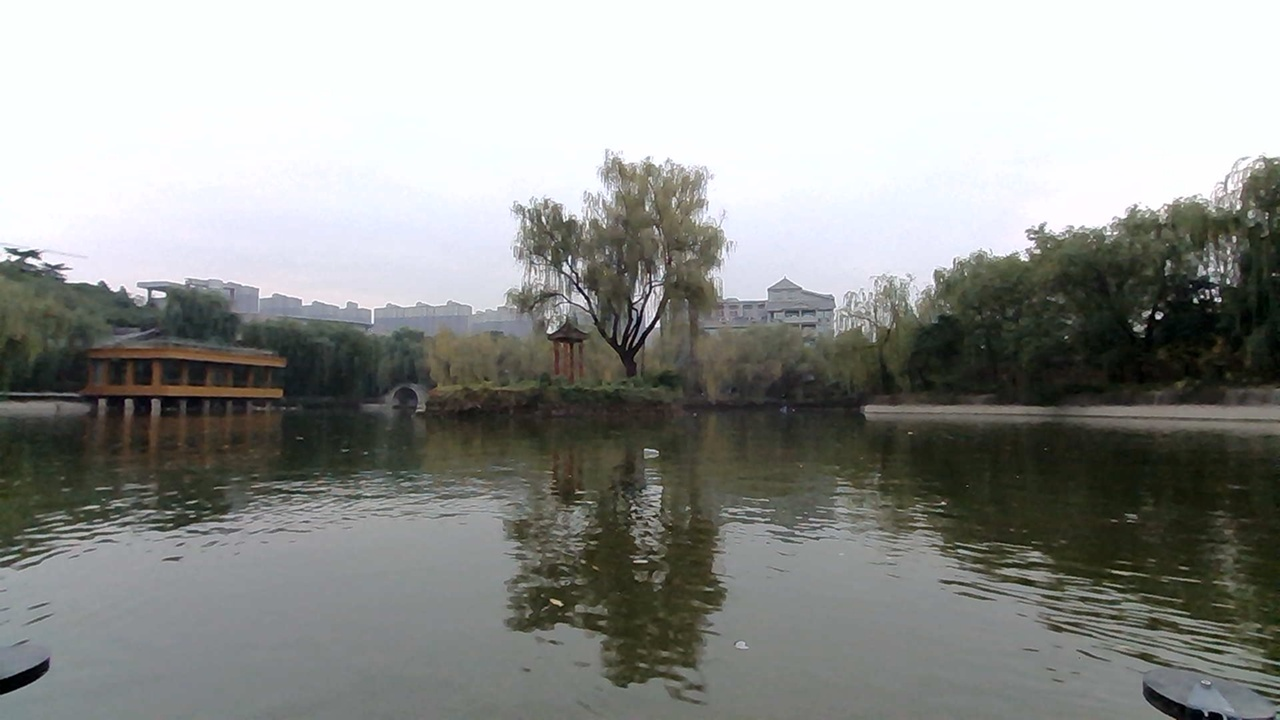bottle: (637, 431, 692, 463)
